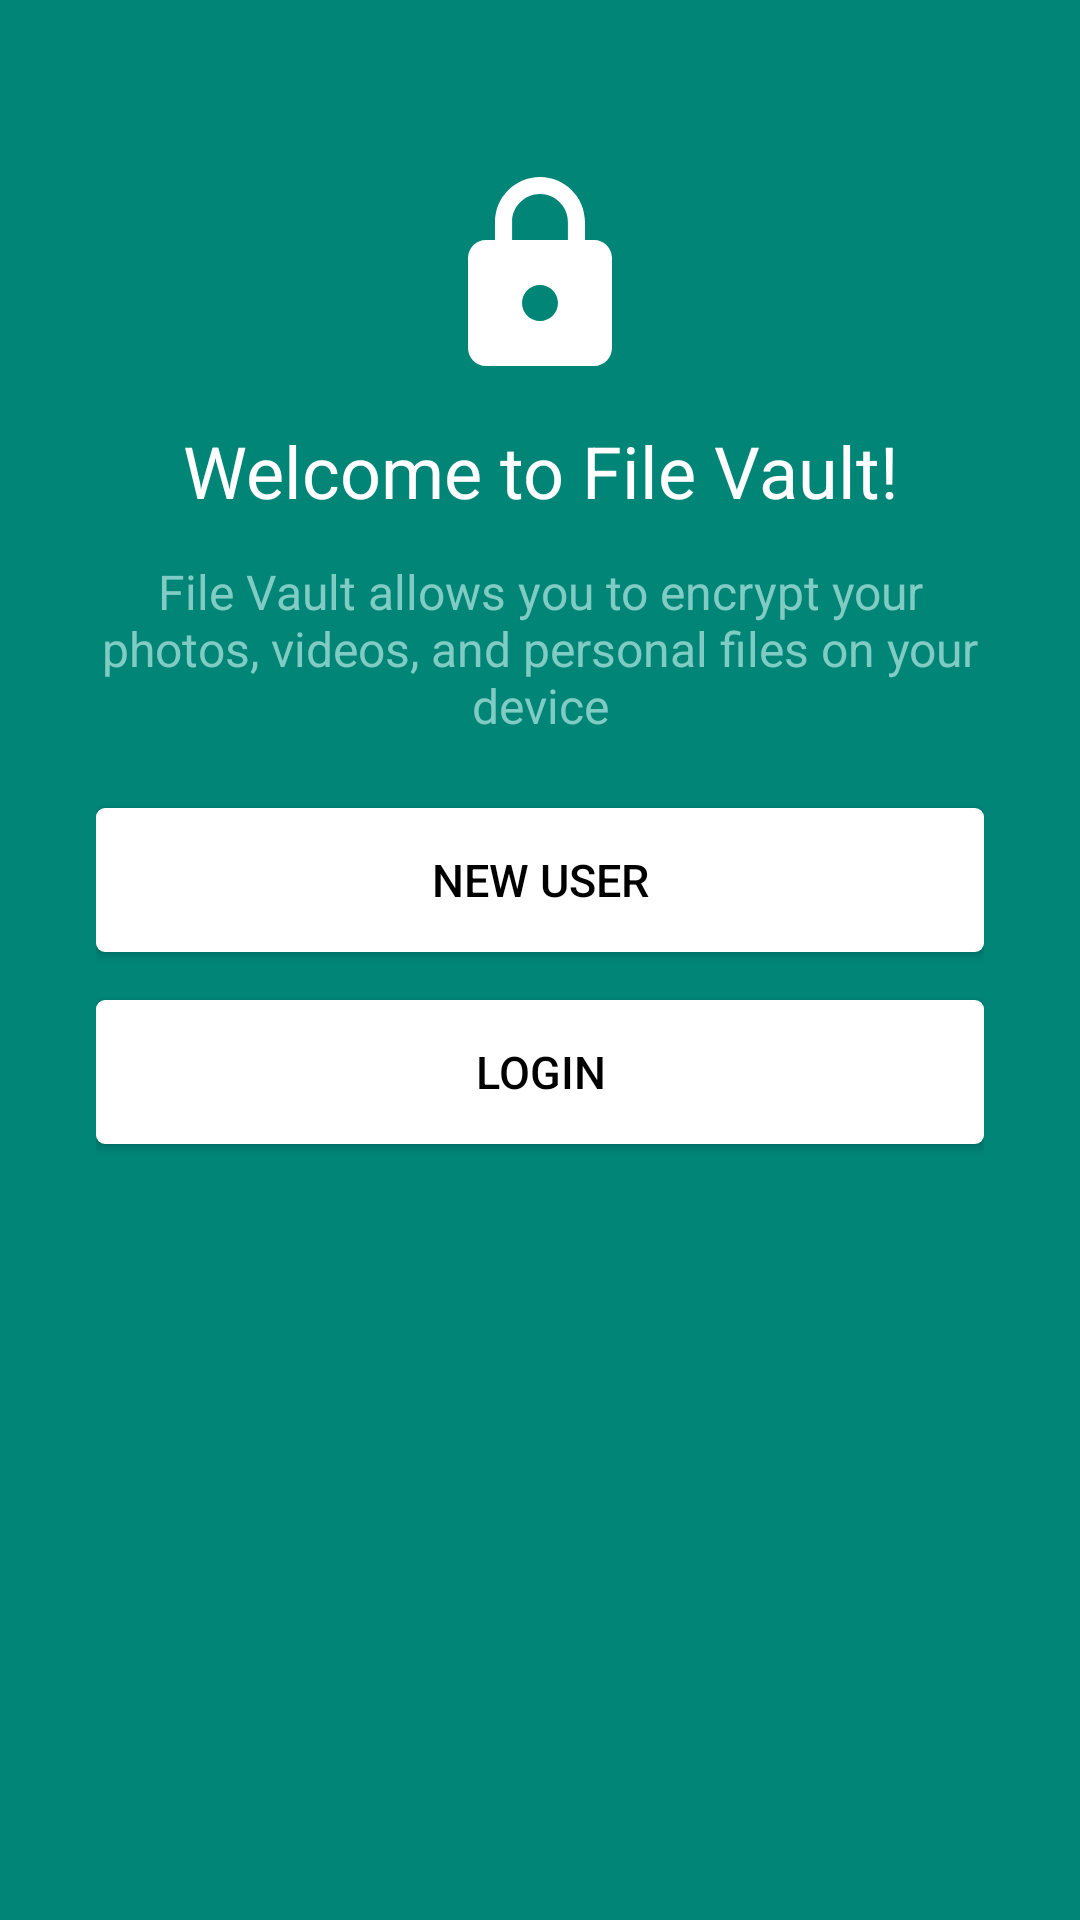

Icons on this 1080w x 1920h Android screen, each with the point to tap as [x,y]:
lock: [540,271]
